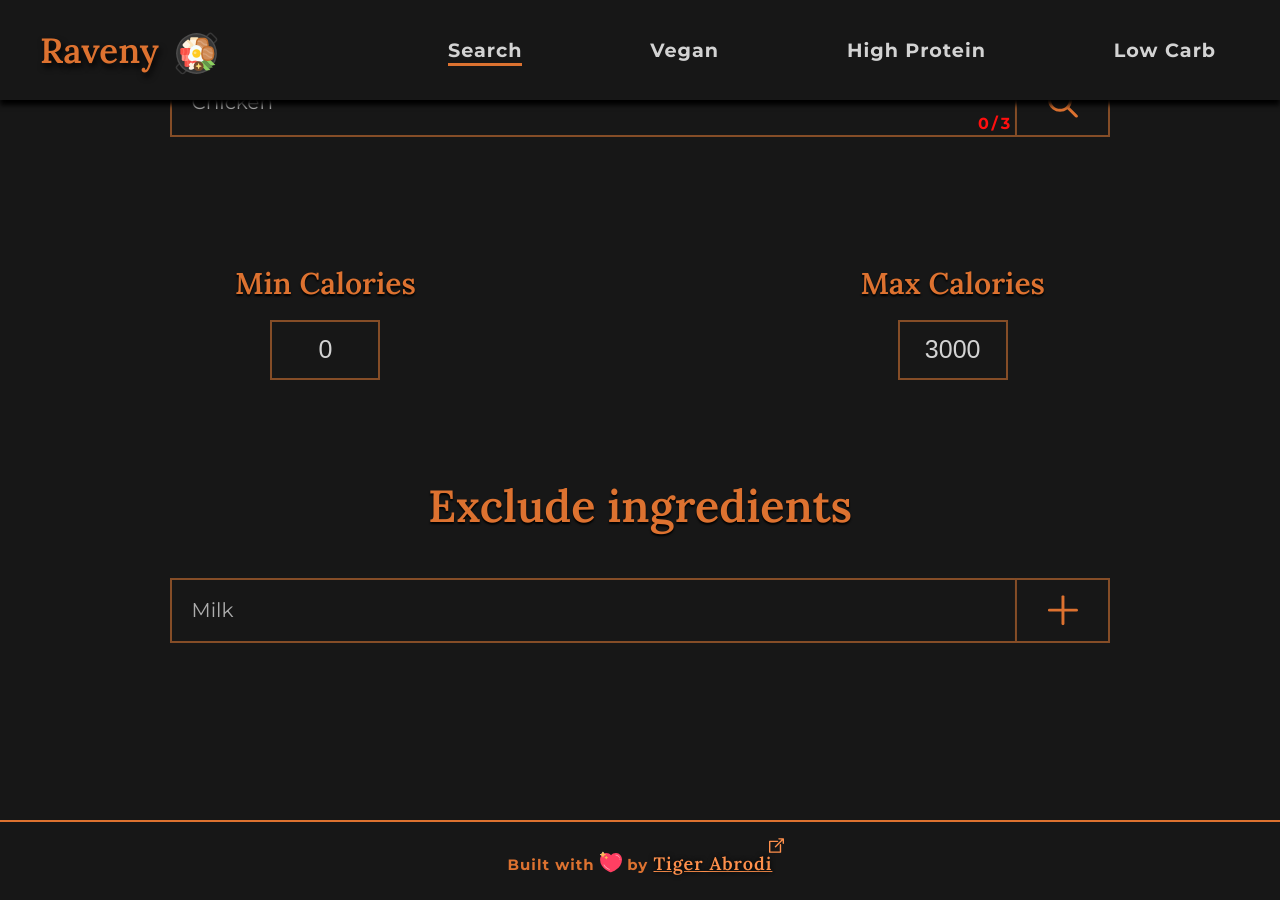
Test: search › exclude › should validate characters
(page scrolled)
Check: the message "Please enter at least 3 characters for the ingredient to be excluded" is not shown
Click the button named "Exclude ingredient": (1062, 610) [1015, 578, 1110, 642]
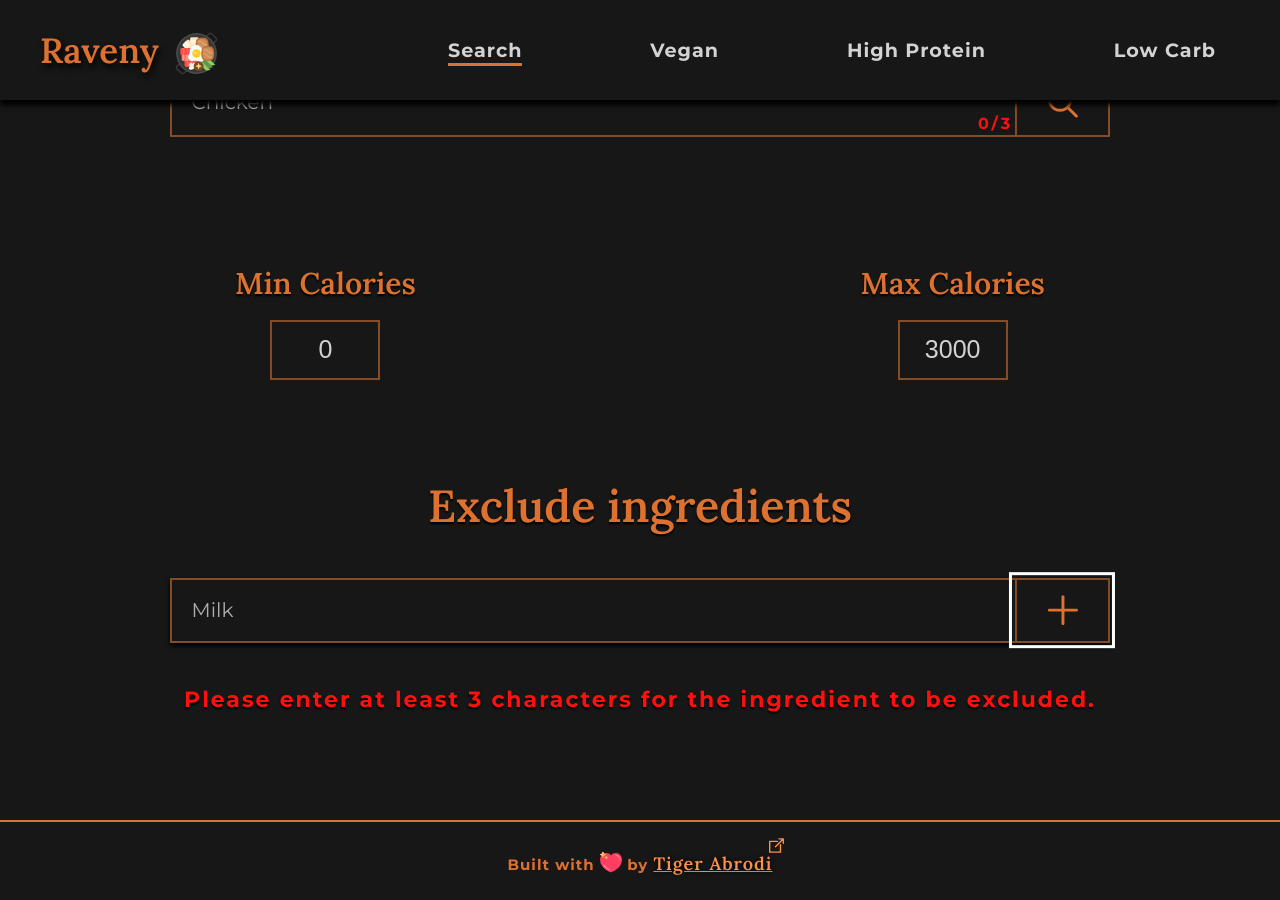
Check: the message "Please enter at least 3 characters for the ingredient to be excluded." is shown, box [184, 686, 1096, 713]
In the field labelled "Exclude ingredients": (640, 610) [170, 578, 1110, 642], type "chicken"
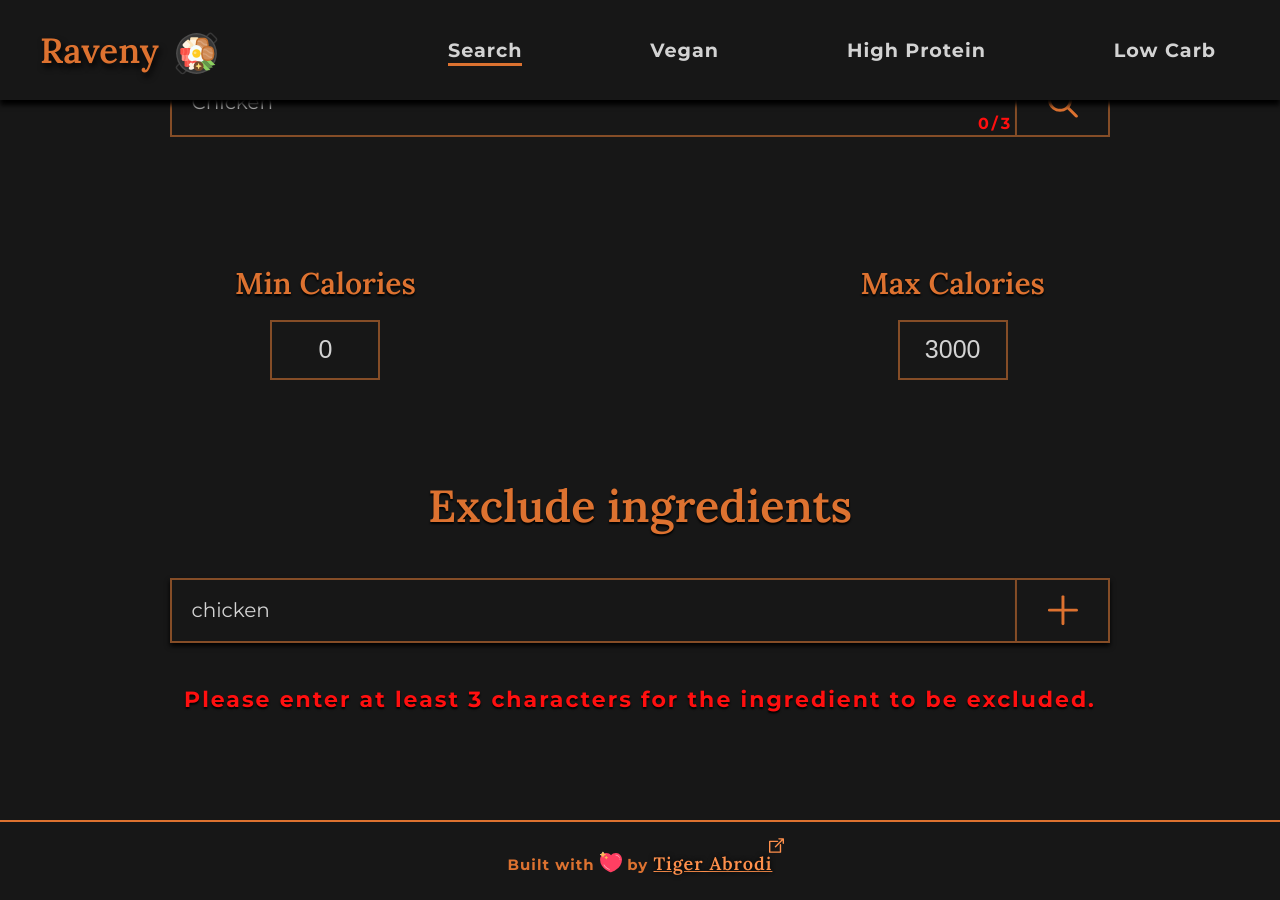
Click the button named "Exclude ingredient": (1062, 610) [1015, 578, 1110, 642]
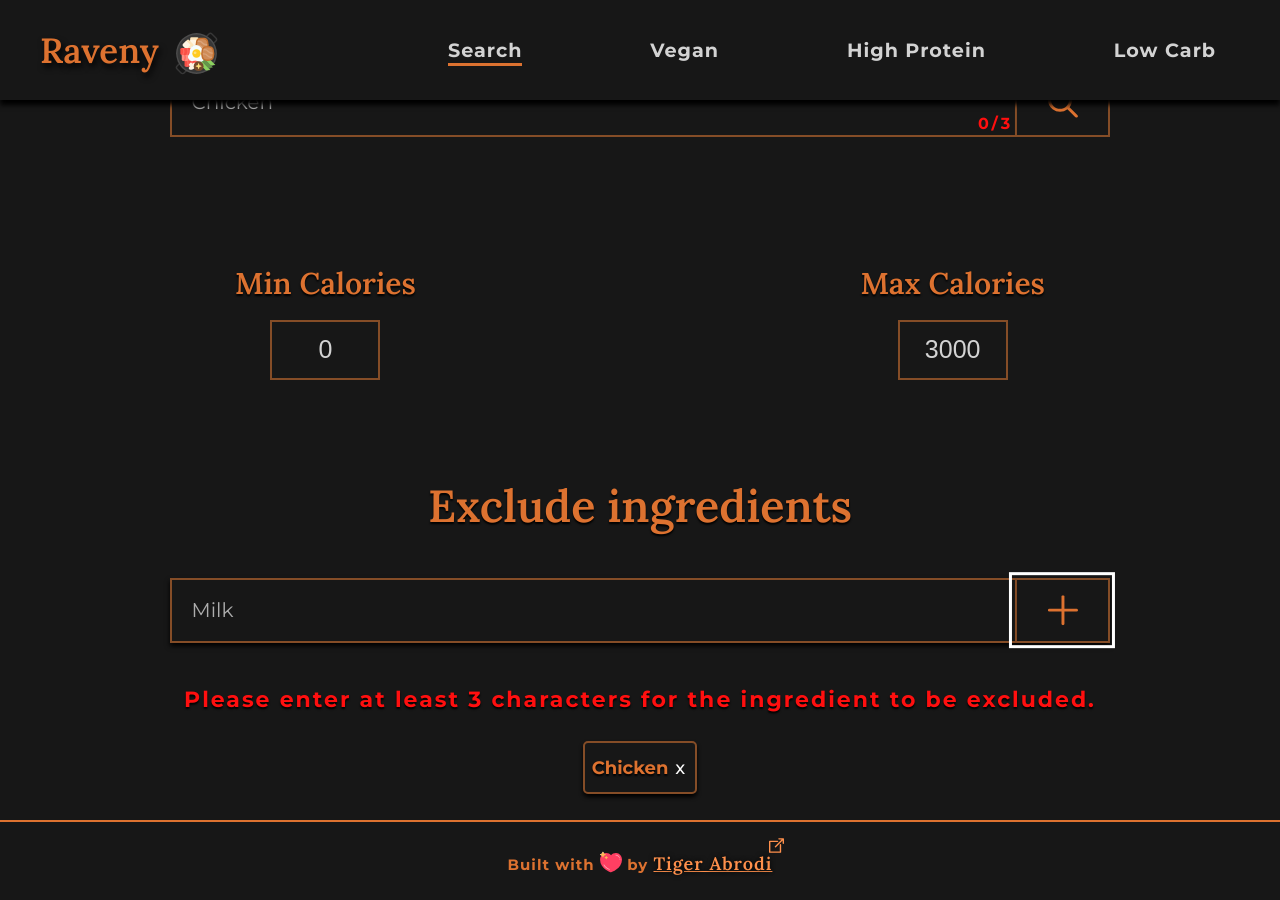
Check: the heading "chicken" is shown, box [592, 756, 668, 778]
Click the button named "Remove chicken ingredient from being exclude": (680, 768) [670, 752, 690, 784]
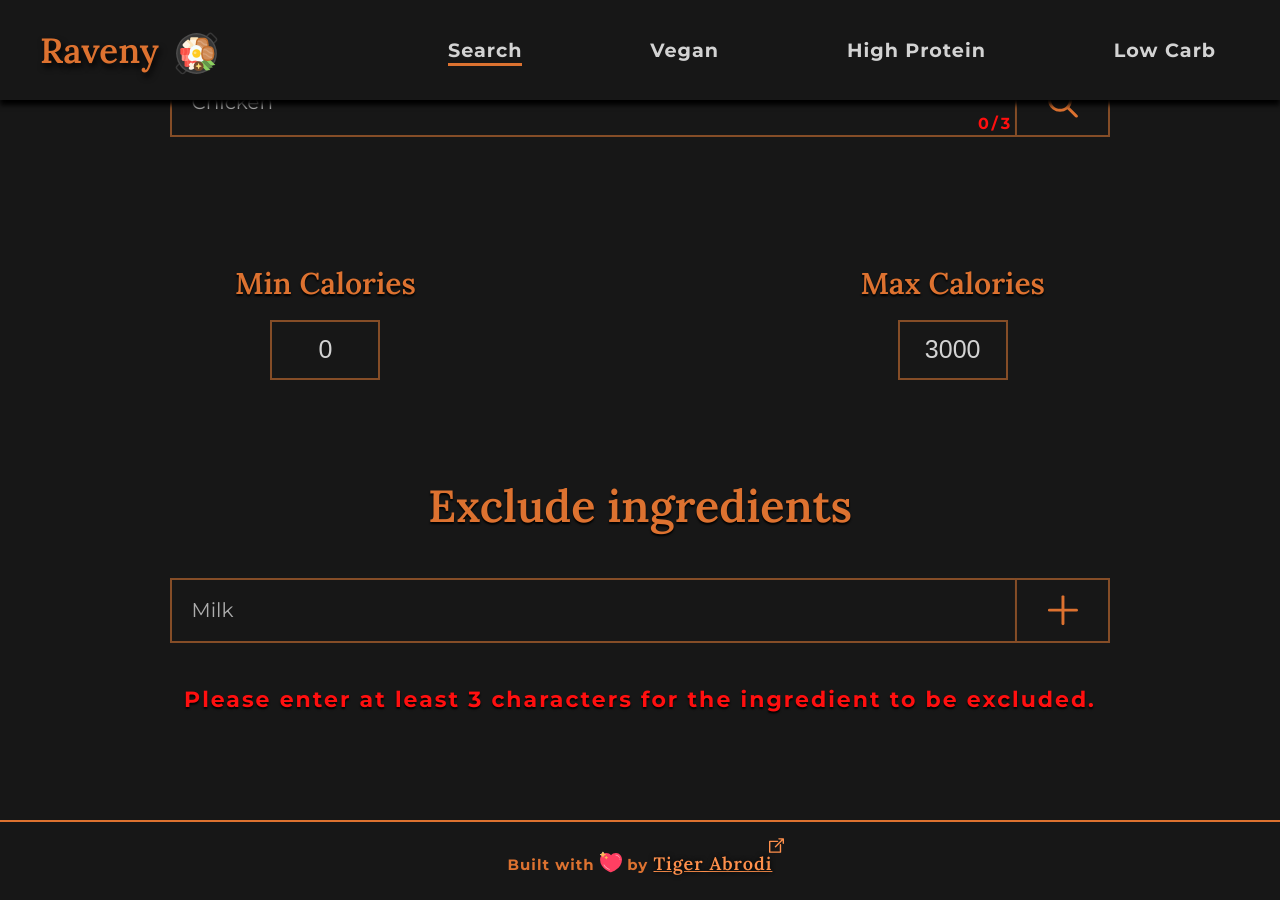
Check: the list item "chicken x" is gone
